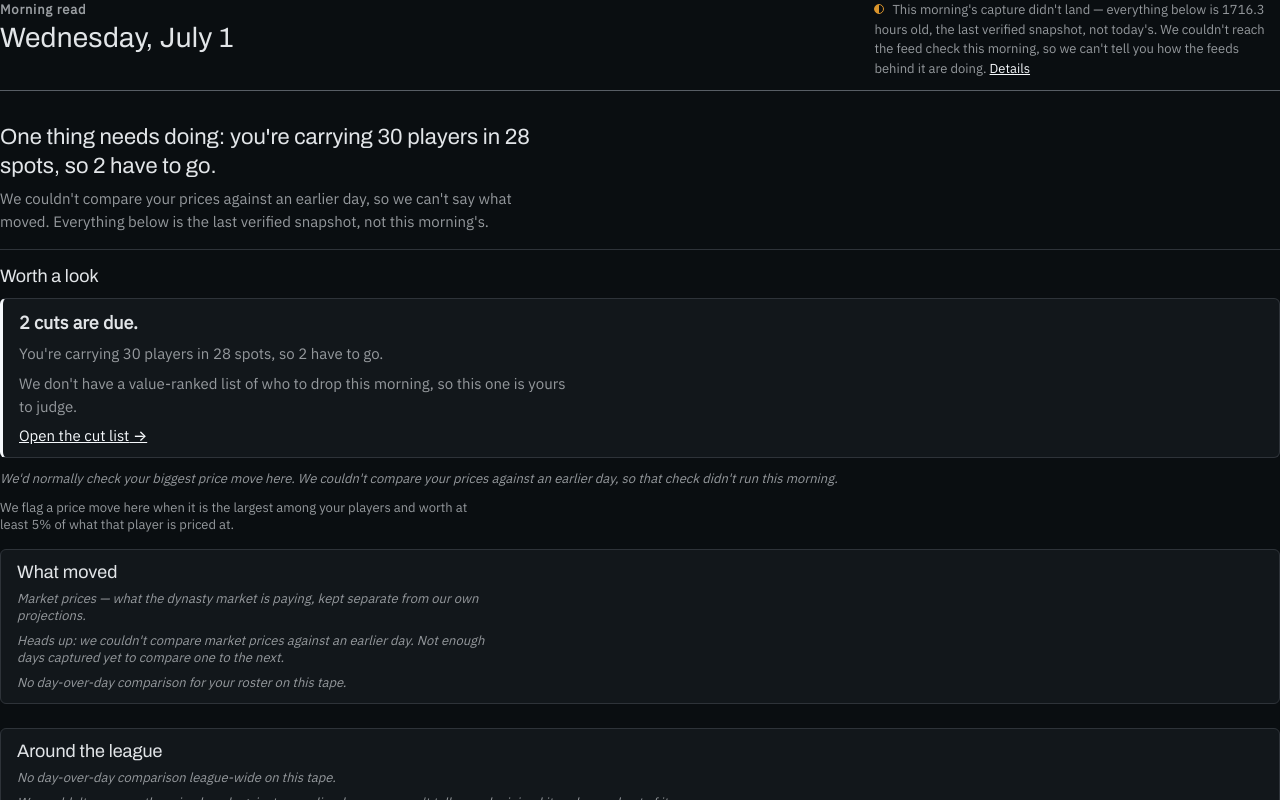
Scenario: DG-111 a comparison that never ran never reads as 'nothing moved' › speaks when the market lane has too little history, and drops the held-steady claim
Check: the element with test id "wc-your-roster" is shown, box [0,549,1279,704]
Check: the text "No day-over-day comparison for your roster on this tape." is shown, box [17,674,346,691]
Click the button with test id "wc-health-sheet-toggle". click: x=1010, y=68
box: [990,58,1030,78]
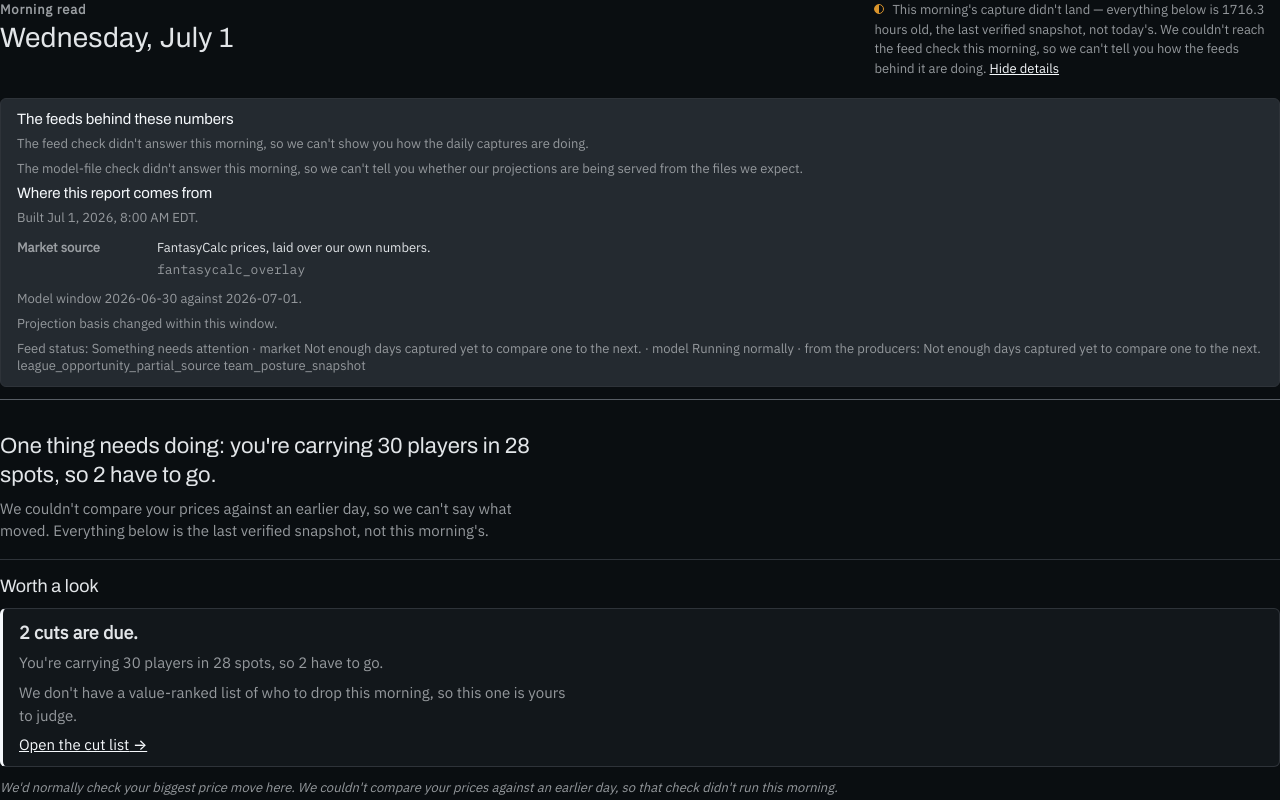
Check: the text with test id "wc-provenance" shows "Not enough days captured yet to compare one to the next.", box [304,340,642,357]
Check: the element with test id "wc-health-sheet" shows "fantasycalc_overlay", box [157,260,305,278]
